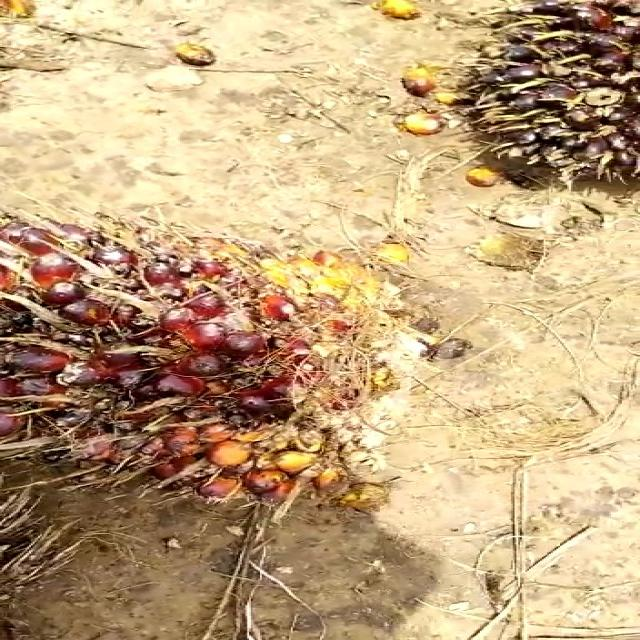palm oil: (0, 226, 490, 527)
